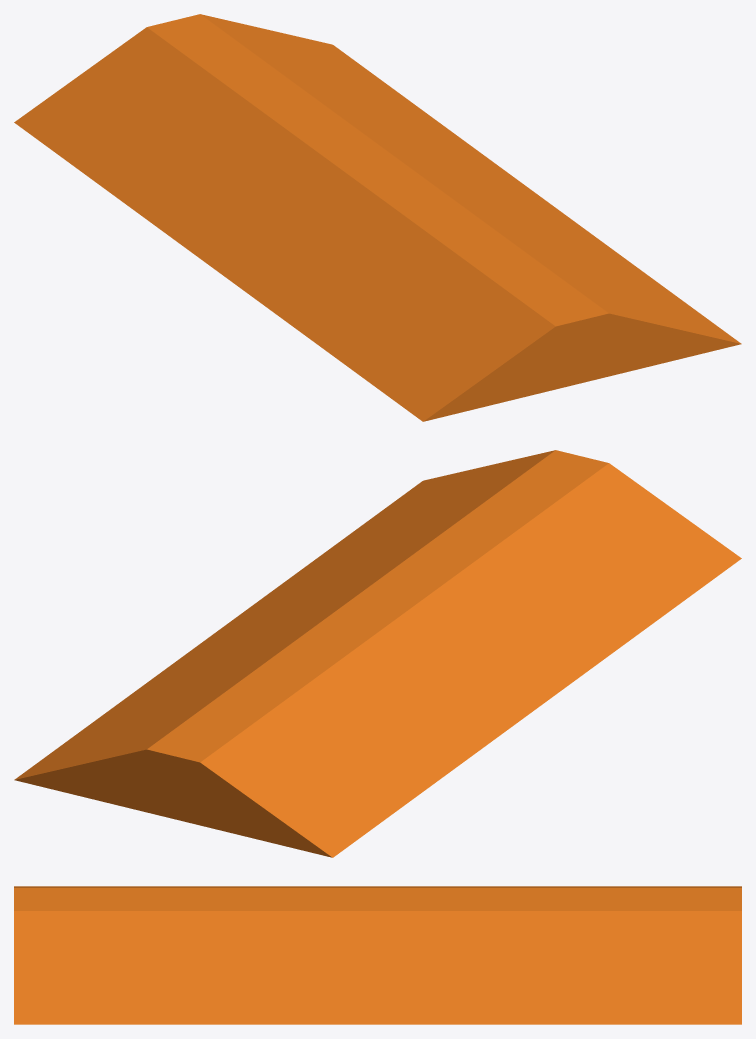
The model's file is prog.glb.
3 views of the same model, one above another, from view 1: azimuth 30°, elevation 25°; view 2: azimuth 150°, elevation 25°; view 3: azimuth 270°, elevation 25° (orthographic). The views are drawn at different scales.
Visible parts, largest first — view 1: Cube; view 2: Cube; view 3: Cube.
Part boxes in pixels (<box>): Cube: <box>14,14,741,421</box>; Cube: <box>14,450,741,857</box>; Cube: <box>14,886,741,1024</box>.
Bounding box in the file's own units: 1.49 × 0.281 × 3.31.
